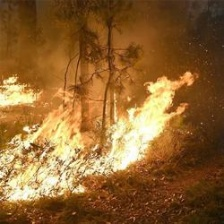fire: (1, 60, 204, 207)
